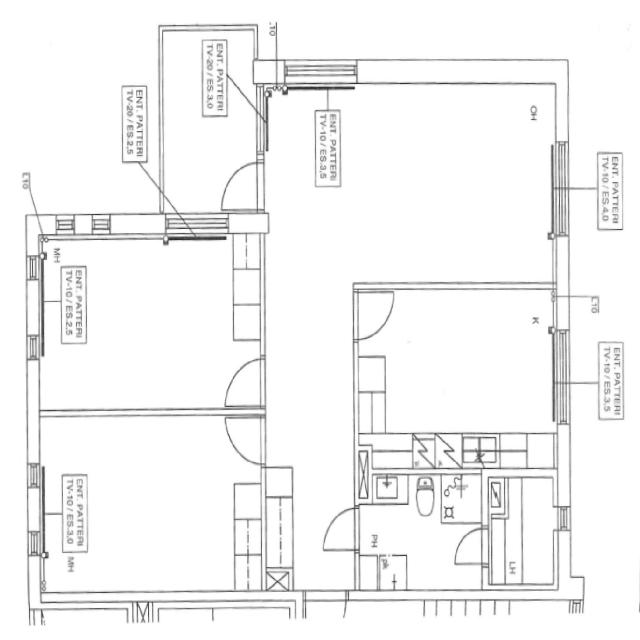door: (221, 410, 268, 466), (222, 352, 266, 409), (218, 156, 261, 214), (354, 288, 396, 344), (319, 502, 361, 554), (450, 523, 488, 568), (548, 183, 572, 243), (550, 377, 572, 429)
window: (550, 323, 574, 413), (49, 214, 120, 240), (548, 178, 573, 242), (549, 136, 572, 193), (550, 378, 574, 428), (24, 248, 43, 282), (554, 502, 574, 533)
zone: (304, 80, 558, 288), (40, 234, 258, 412), (357, 286, 559, 468), (77, 412, 261, 591), (158, 20, 262, 219), (356, 468, 484, 595), (486, 472, 558, 589)
